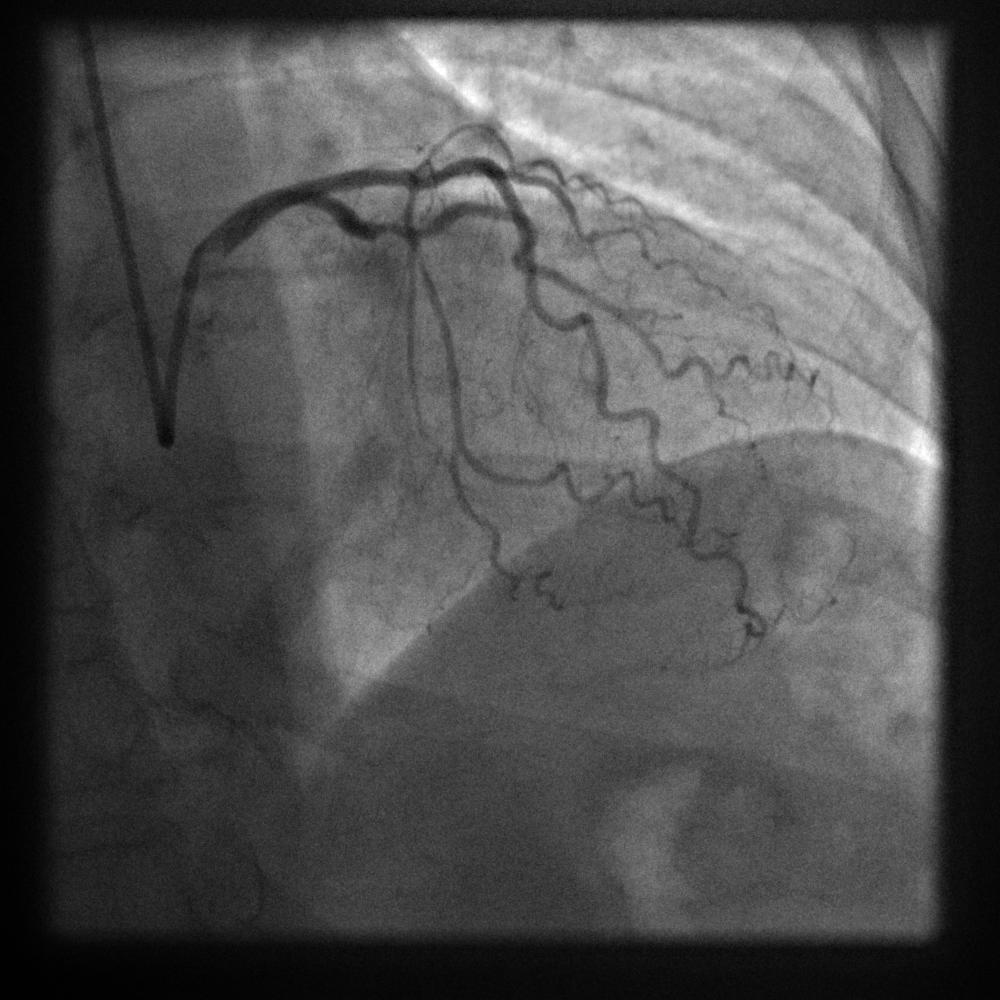Stenosis: (345, 209, 437, 249)
